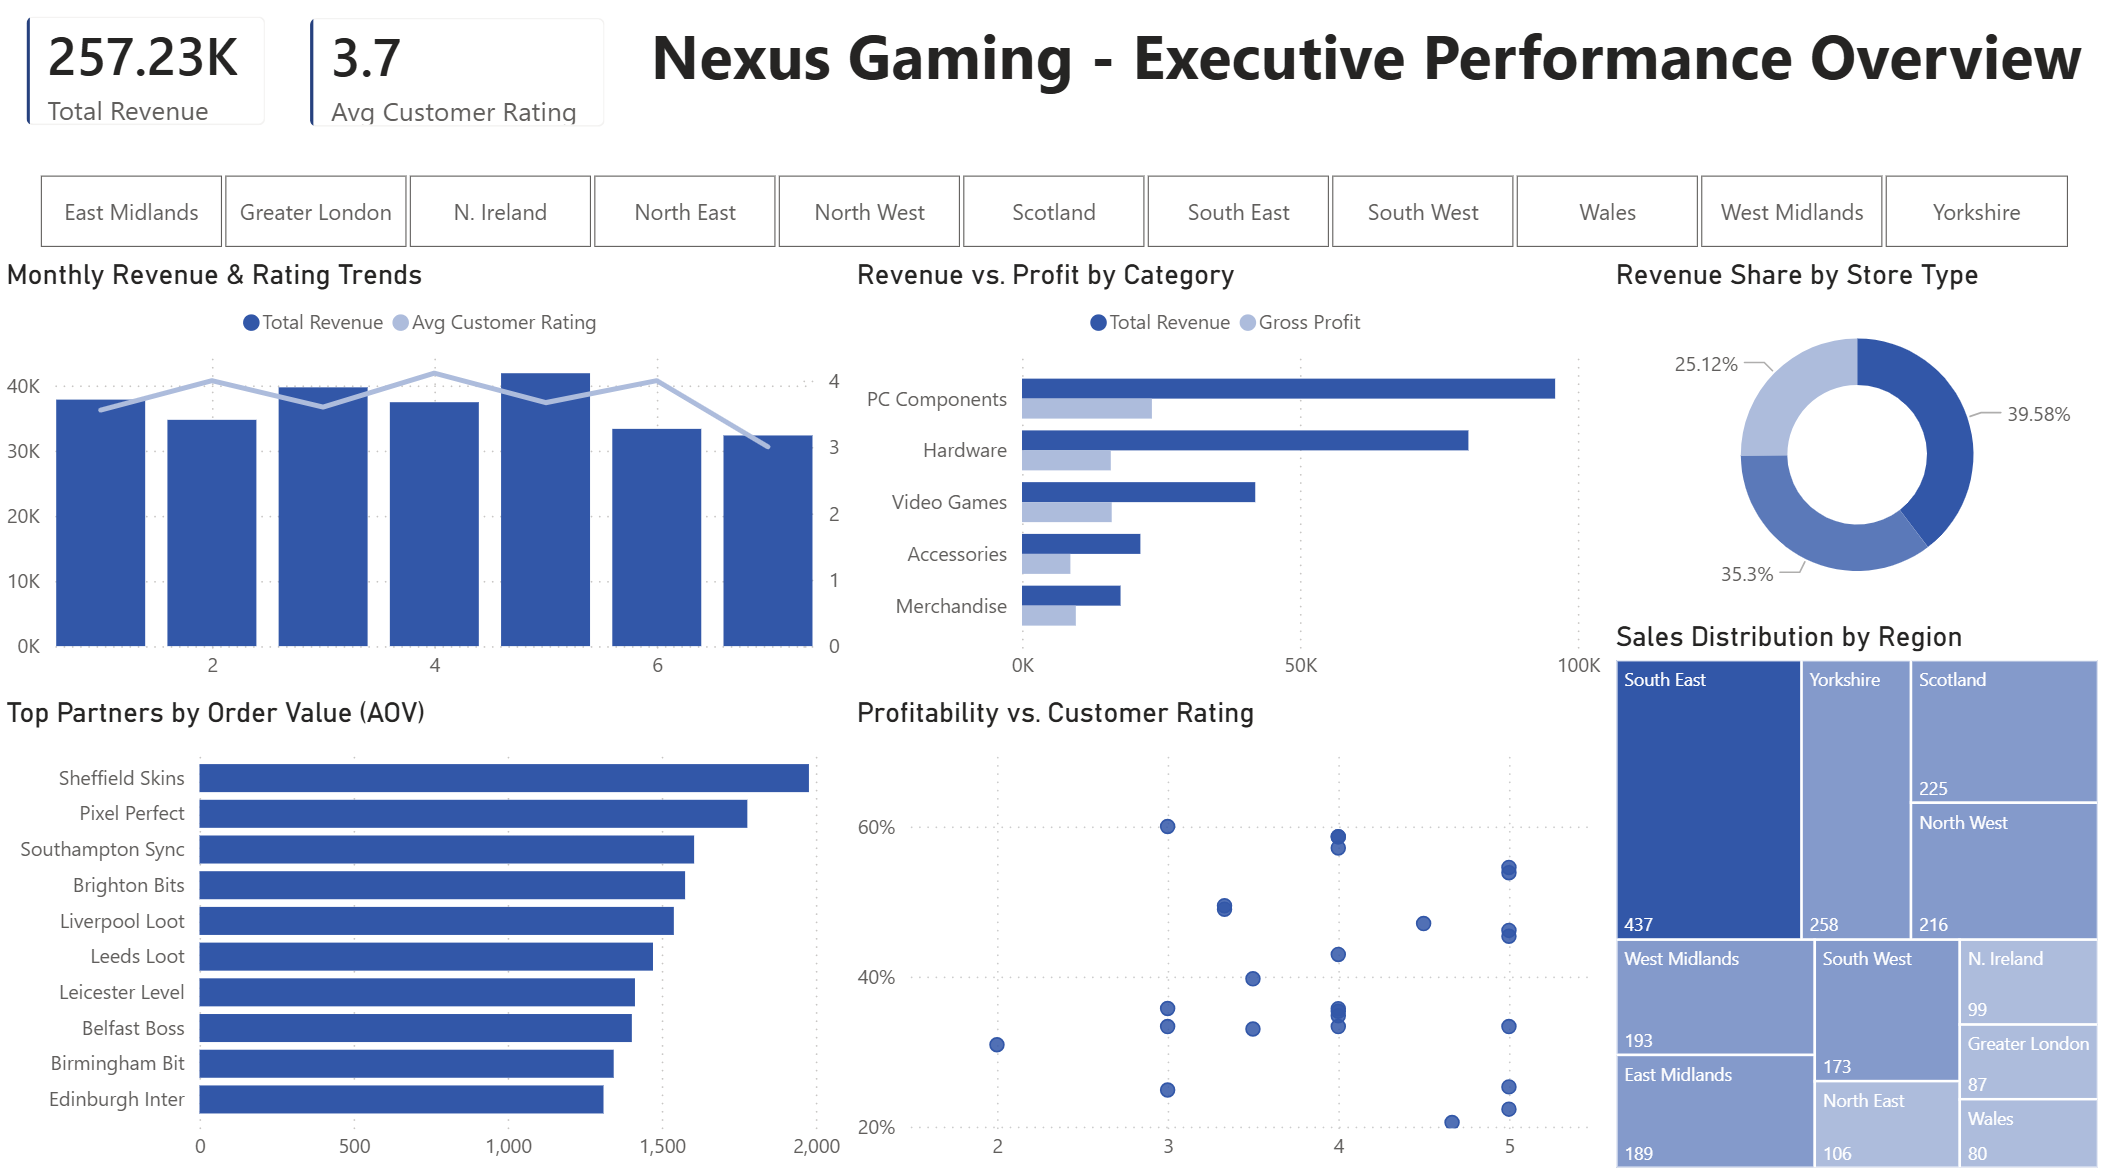

This screenshot's page, from the dashboard's own definition file:
{"tool":"powerbi","page":{"name":"Page 1","canvas":[1280,720],"ordinal":0},"visuals":[{"type":"cardVisual","fields":{"Data":["Sales.Total Revenue"]},"box":[0,0,179.4,100.2],"z":0},{"type":"cardVisual","fields":{"Data":["Feedback.Avg Customer Rating"]},"box":[172.1,0.9,213.1,100.2],"z":1000},{"type":"slicer","fields":{"Values":["Clients.Region"]},"box":[0,106.5,1280.4,57.4],"z":2000},{"type":"lineClusteredColumnComboChart","title":"Monthly Revenue & Rating Trends","fields":{"Y":["Sales.Total Revenue"],"Y2":["Feedback.Avg Customer Rating"],"Category":["Calendar.Month Number"]},"box":[0,164.1,516.1,265.3],"z":3000},{"type":"clusteredBarChart","title":"Revenue vs. Profit by Category","fields":{"Y":["Sales.Total Revenue","Sales.Gross Profit"],"Category":["Products.Category"]},"box":[516.1,164.1,461.4,265.3],"z":4000},{"type":"treemap","title":"Sales Distribution by Region","fields":{"Group":["Clients.Region"],"Values":["Sales.Total Units Sold"]},"box":[977.5,383,302.5,337.5],"z":5000},{"type":"clusteredBarChart","title":"Top Partners by Order Value (AOV)","fields":{"Category":["Clients.Store_Name"],"Y":["Sales.AOV"]},"box":[0,429.4,516.1,291.1],"z":6000},{"type":"scatterChart","title":"Profitability vs. Customer Rating","fields":{"Category":["Products.Product_Name"],"X":["Feedback.Avg Customer Rating"],"Y":["Sales.Profit Margin %"]},"box":[516.1,429.4,461.4,291.1],"z":7000},{"type":"textbox","box":[381.6,10,898.8,96.5],"z":8000},{"type":"donutChart","title":"Revenue Share by Store Type","fields":{"Category":["Clients.Store_Type"],"Y":["Sales.Total Revenue"]},"box":[977.5,164.1,302.5,218.8],"z":8001}]}

Visuals, with their boxes in screenshot pixels (x1, y1, x2, y2), scaled from the page's 1280x720 canvas onto the 2102x1170 screenshot:
cardVisual - Sales.Total Revenue: rect(0, 0, 295, 163)
cardVisual - Feedback.Avg Customer Rating: rect(283, 1, 633, 164)
slicer - Clients.Region: rect(0, 173, 2101, 266)
"Monthly Revenue & Rating Trends" lineClusteredColumnComboChart: rect(0, 267, 848, 698)
"Revenue vs. Profit by Category" clusteredBarChart: rect(848, 267, 1605, 698)
"Sales Distribution by Region" treemap: rect(1605, 622, 2101, 1169)
"Top Partners by Order Value (AOV)" clusteredBarChart: rect(0, 698, 848, 1169)
"Profitability vs. Customer Rating" scatterChart: rect(848, 698, 1605, 1169)
textbox: rect(627, 16, 2101, 173)
"Revenue Share by Store Type" donutChart: rect(1605, 267, 2101, 622)
